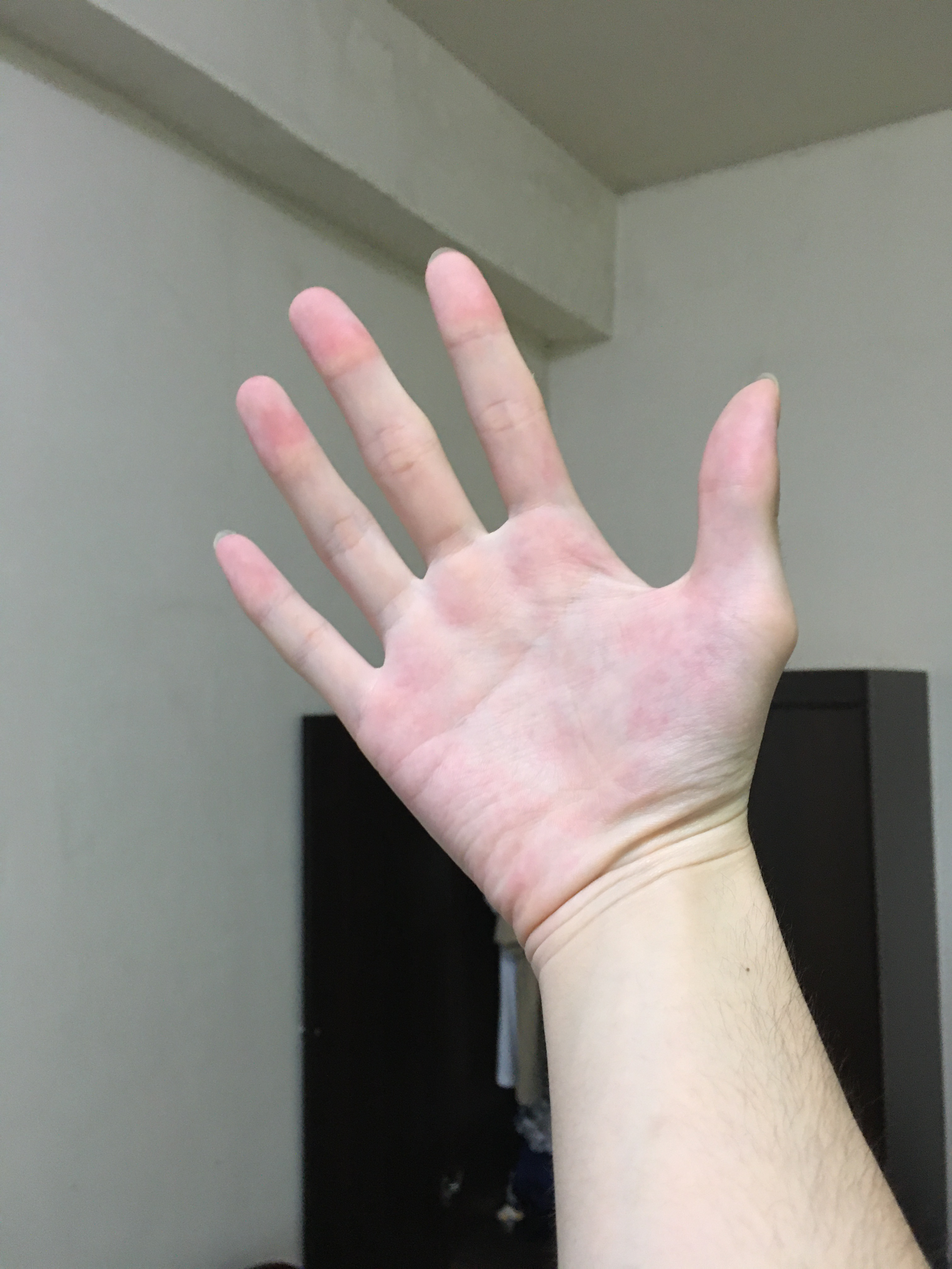No-gloves: (181, 212, 814, 981)
